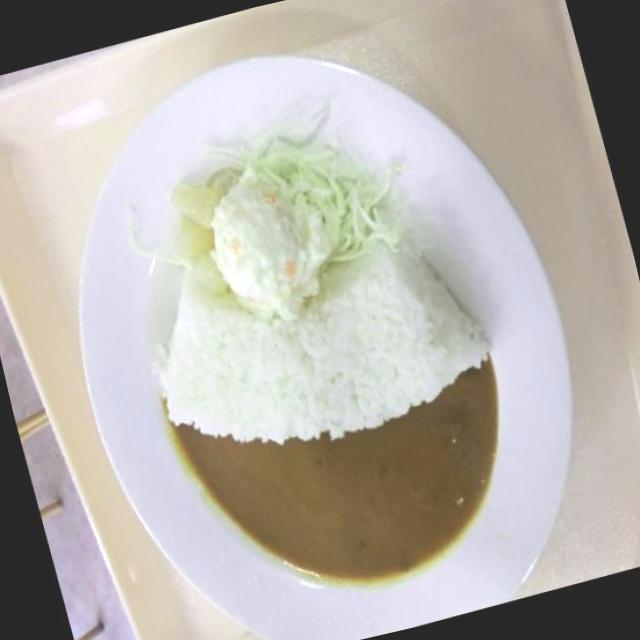Beef Curry: (162, 370, 544, 630)
